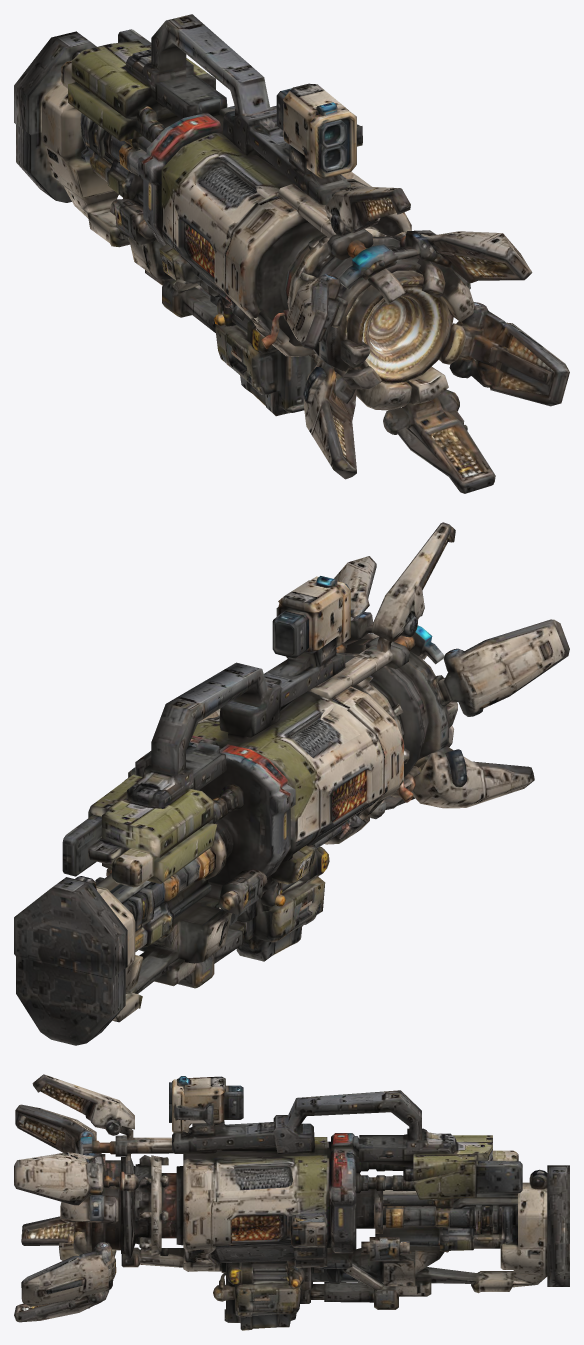
Rendered from mecha_sung_emp.glb.
3 renders of one model, top to bottom at view 1: azimuth 30°, elevation 25°; view 2: azimuth 150°, elevation 25°; view 3: azimuth 270°, elevation 25°, orthographic. The views are drawn at different scales.
Visible parts, largest first — view 1: mecha_sung_emp; view 2: mecha_sung_emp; view 3: mecha_sung_emp.
Part boxes in pixels (x1=…): mecha_sung_emp: x1=14, y1=14, x2=569, y2=493; mecha_sung_emp: x1=14, y1=522, x2=569, y2=1045; mecha_sung_emp: x1=14, y1=1074, x2=569, y2=1330.
Bounding box in the file's own units: 2.03 × 2.44 × 5.
Materials: 1 (1 with a texture image).
